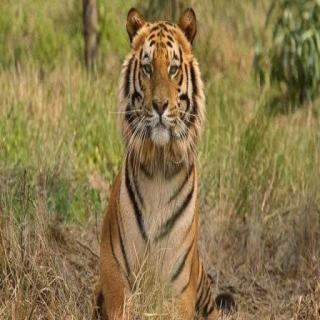Tiger: (86, 1, 233, 320)
